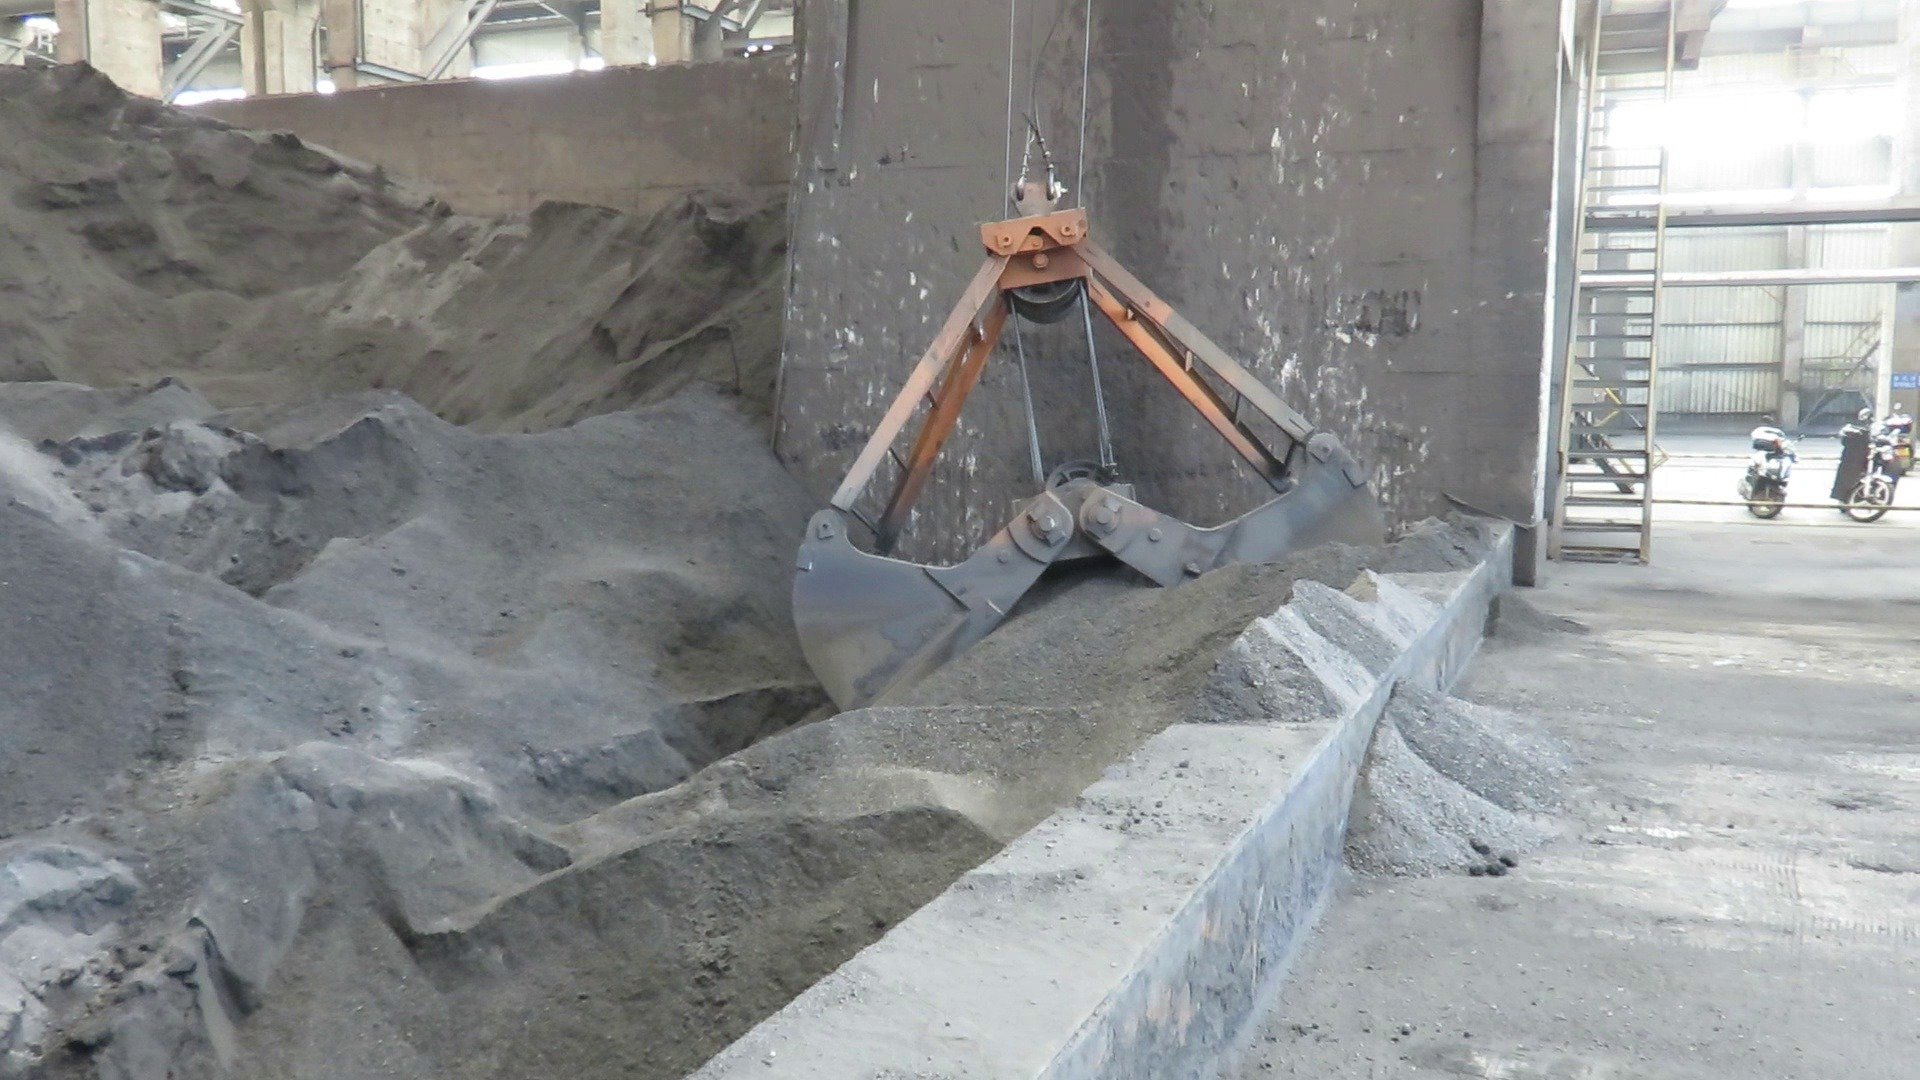grab: (775, 166, 1367, 724)
